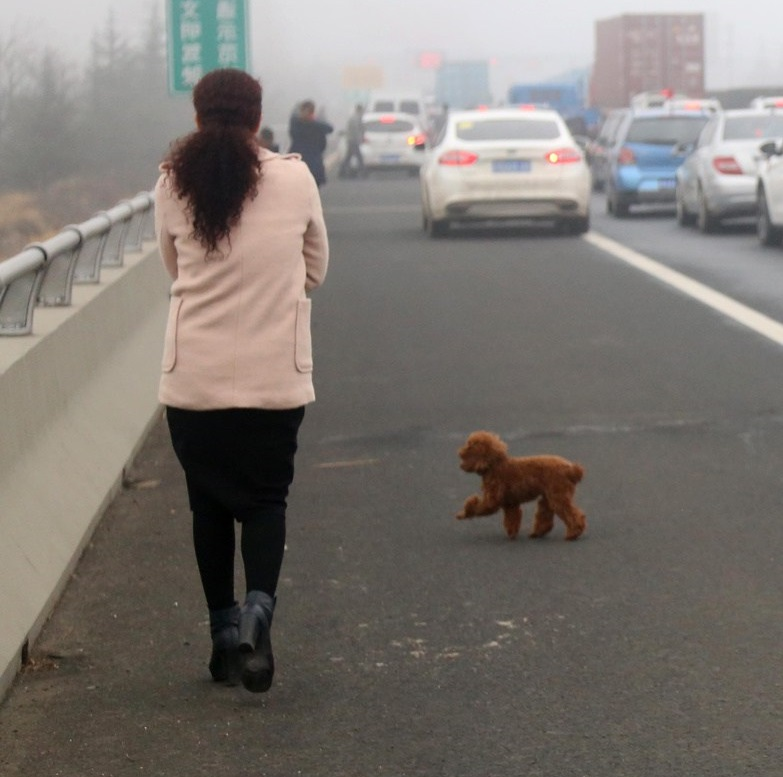person: (143, 56, 332, 702), (287, 98, 331, 179), (340, 102, 367, 177)
